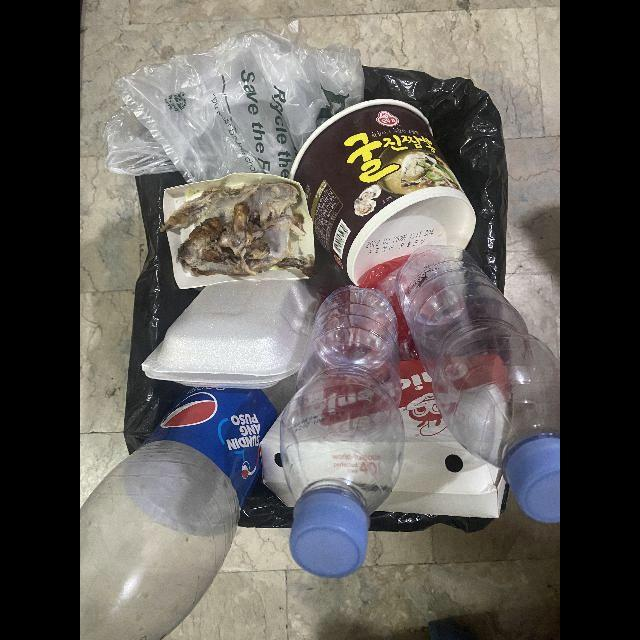cardboard: (289, 99, 476, 286), (376, 360, 506, 519)
left_over_food: (159, 183, 317, 277)
plastic_bag: (103, 29, 365, 184), (357, 255, 419, 362)
plastic_bottle: (80, 374, 297, 640), (396, 246, 560, 523), (279, 286, 405, 580)
